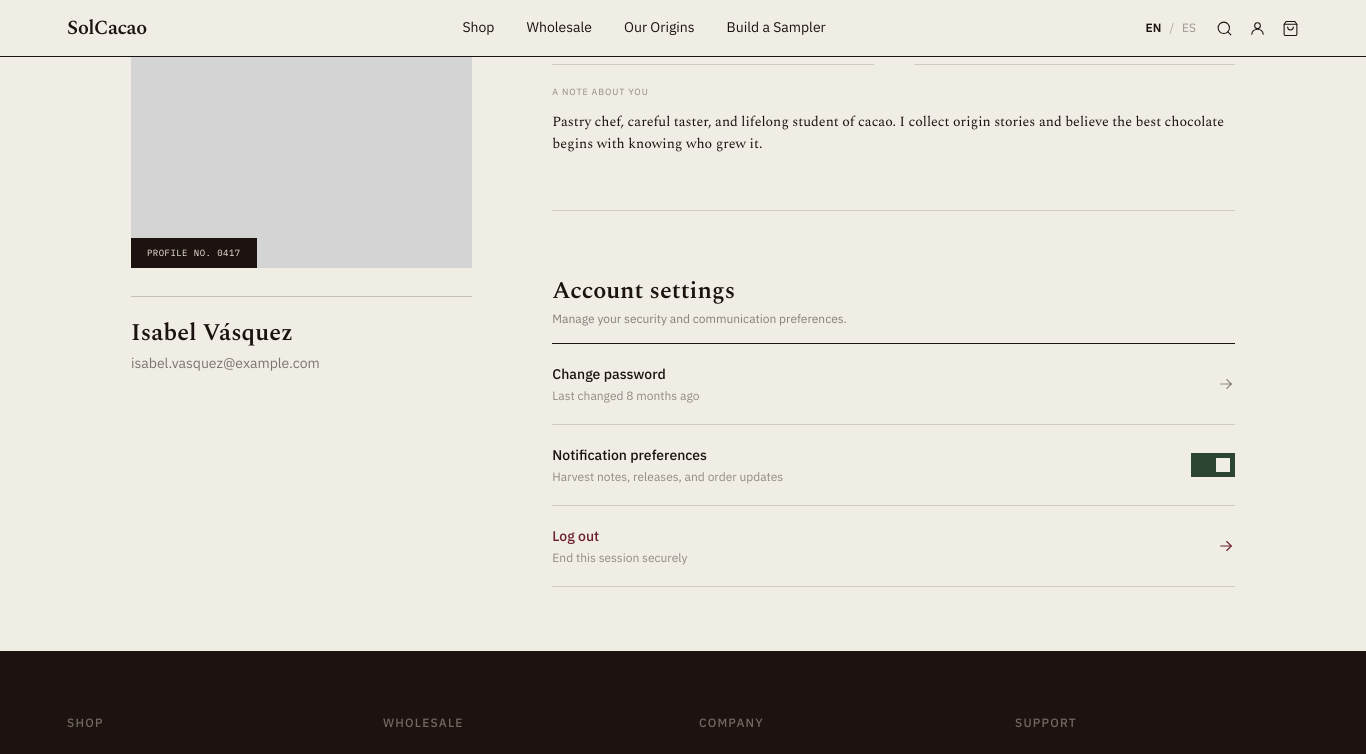
Scenario: profile page › shows the password reset panel and confirms the link was sent
The width and height of the screenshot is (1366, 754).
(page scrolled)
Click the button "Change password Last changed 8 months ago".
click(609, 374)  # box [552,344,1235,425]
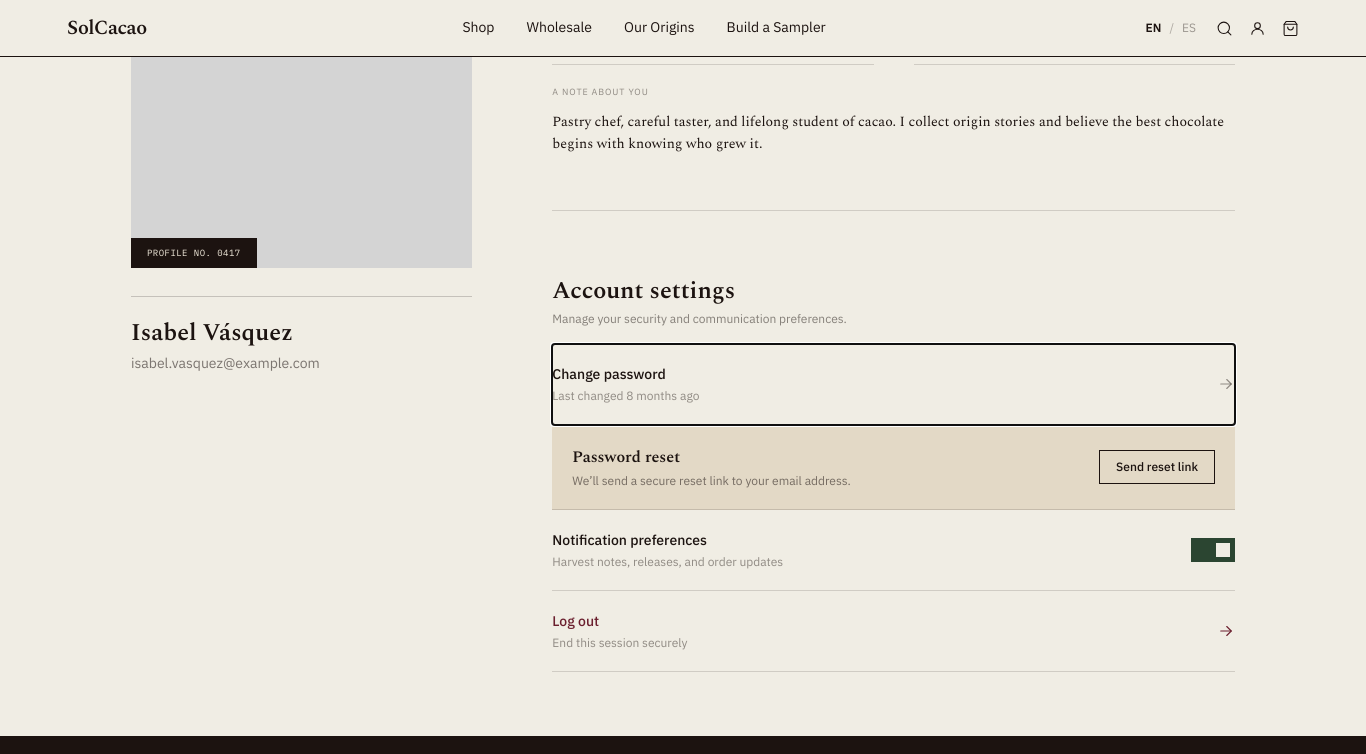
Click the button "Send reset link".
click(1157, 467)  # box [1099,450,1215,484]
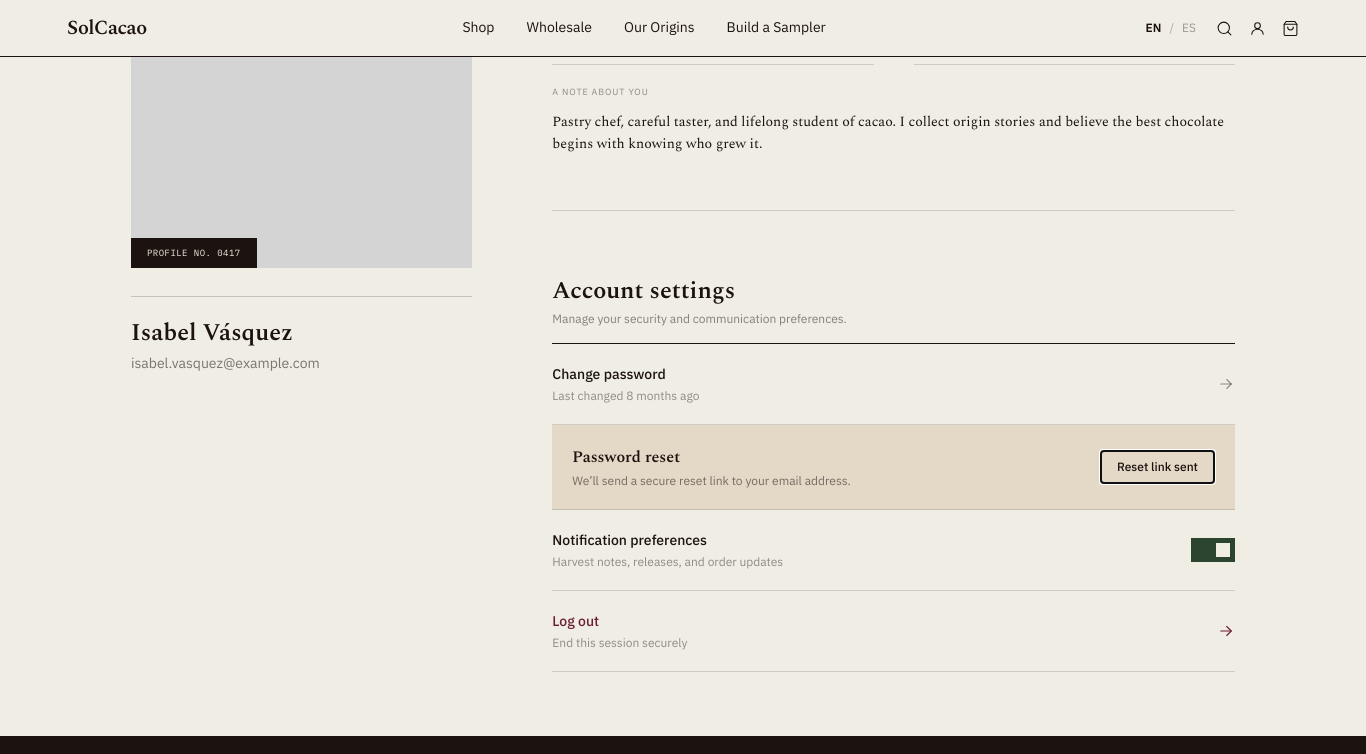
expect the button "Reset link sent" is shown: met, box [1100,450,1215,484]
